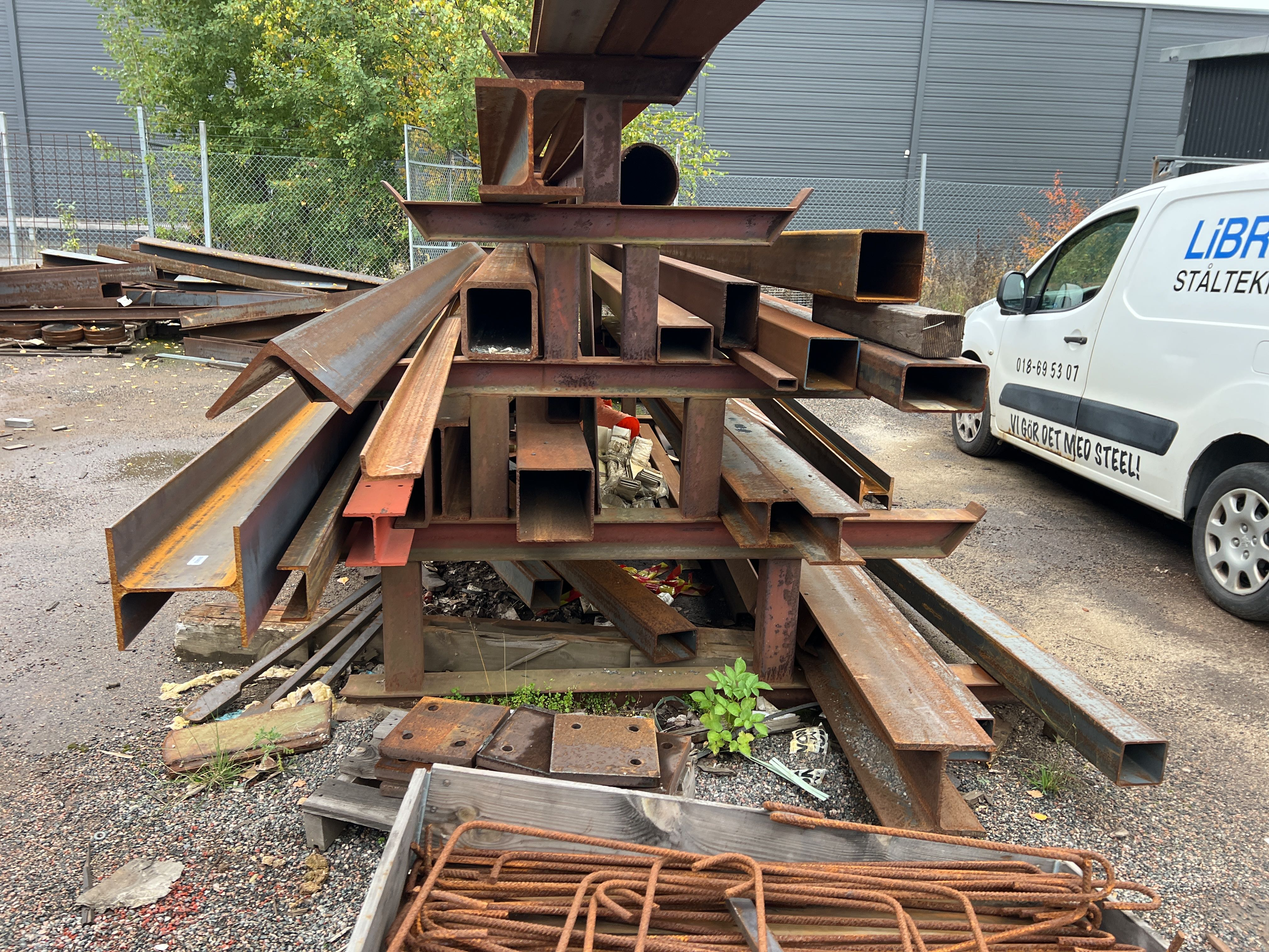truba: (460, 281, 540, 362), (515, 464, 595, 545), (854, 224, 926, 305), (804, 337, 859, 394)
